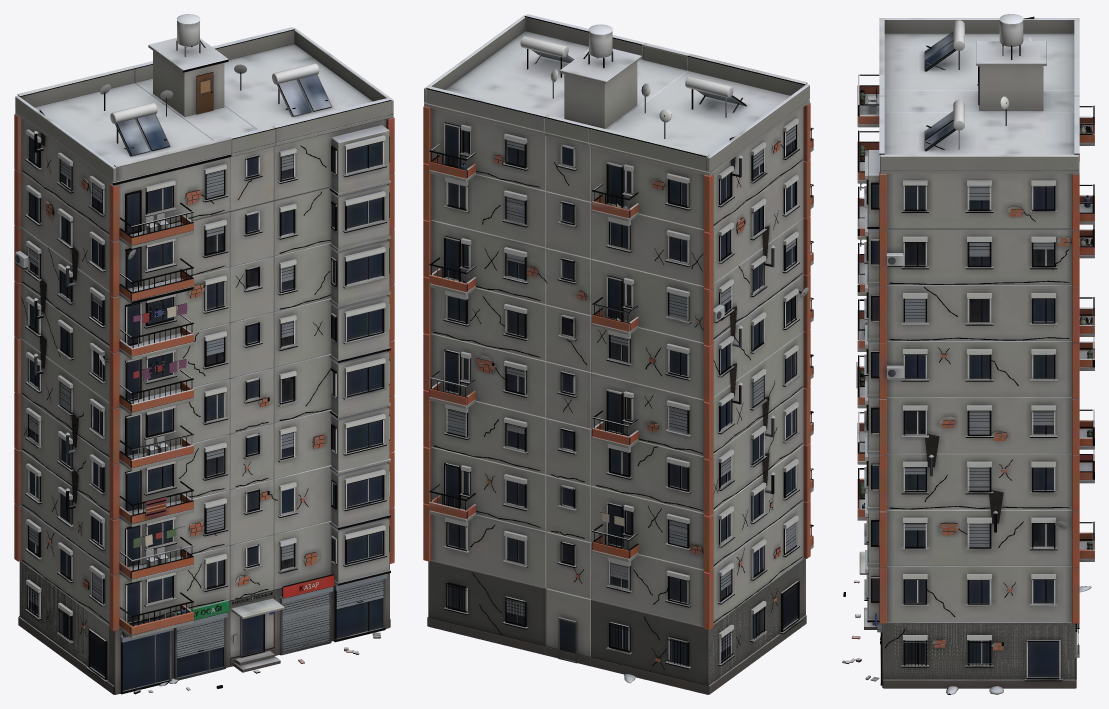
Rendered from bld_apt_grey_8.glb.
The picture shows the model from 3 angles, left to right: view 1: azimuth 30°, elevation 25°; view 2: azimuth 150°, elevation 25°; view 3: azimuth 270°, elevation 25°; orthographic projection.
Parts seen in each view (by area): view 1: bld_apt_grey_8; view 2: bld_apt_grey_8; view 3: bld_apt_grey_8.
Part boxes in pixels (bbox=[...]): bld_apt_grey_8: bbox=[14, 14, 394, 694]; bld_apt_grey_8: bbox=[423, 14, 813, 694]; bld_apt_grey_8: bbox=[842, 14, 1094, 694].
Bounding box in the file's own units: 16.27 × 31.16 × 11.83.
Materials: 1 (1 with a texture image).
